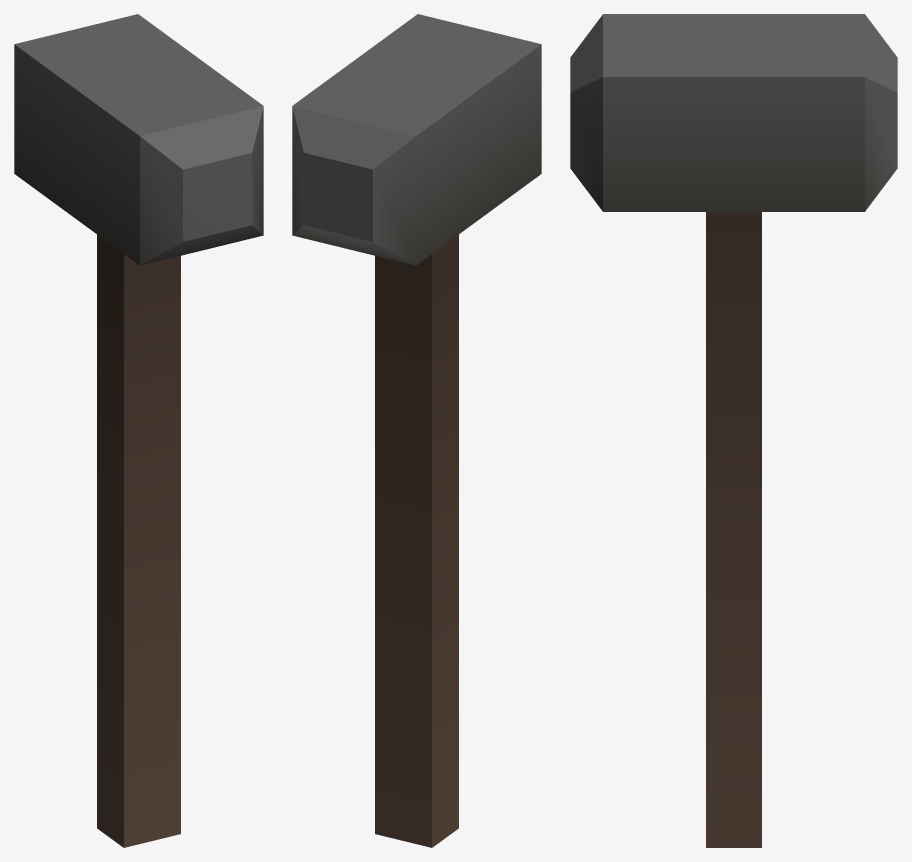
The model's file is Hammer.fbx.
The picture shows the model from 3 angles, left to right: view 1: azimuth 30°, elevation 25°; view 2: azimuth 150°, elevation 25°; view 3: azimuth 270°, elevation 25°; orthographic projection. The views are drawn at different scales.
Parts seen in each view (by area): view 1: Cube; view 2: Cube; view 3: Cube.
Boxes of the visible parts, x1=… form: Cube: x1=14, y1=14, x2=263, y2=847; Cube: x1=292, y1=14, x2=541, y2=847; Cube: x1=570, y1=14, x2=897, y2=847.
Bounding box in the file's own units: 200 × 1167 × 439.
